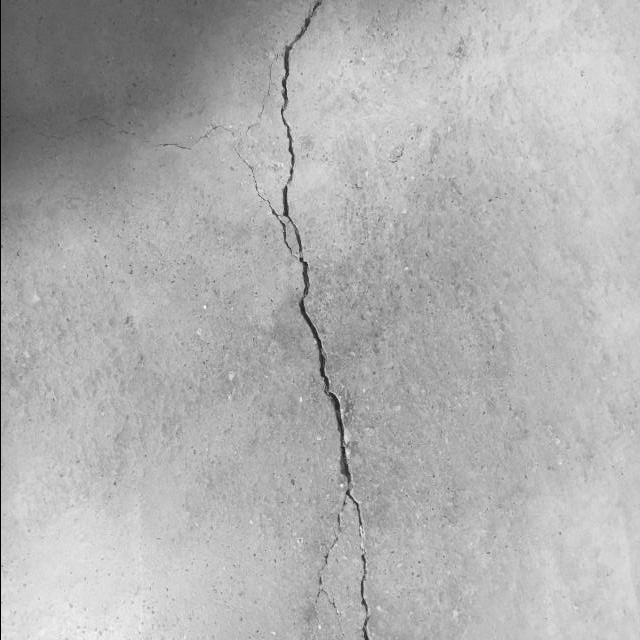SurfaceCrack: (223, 0, 403, 640)
